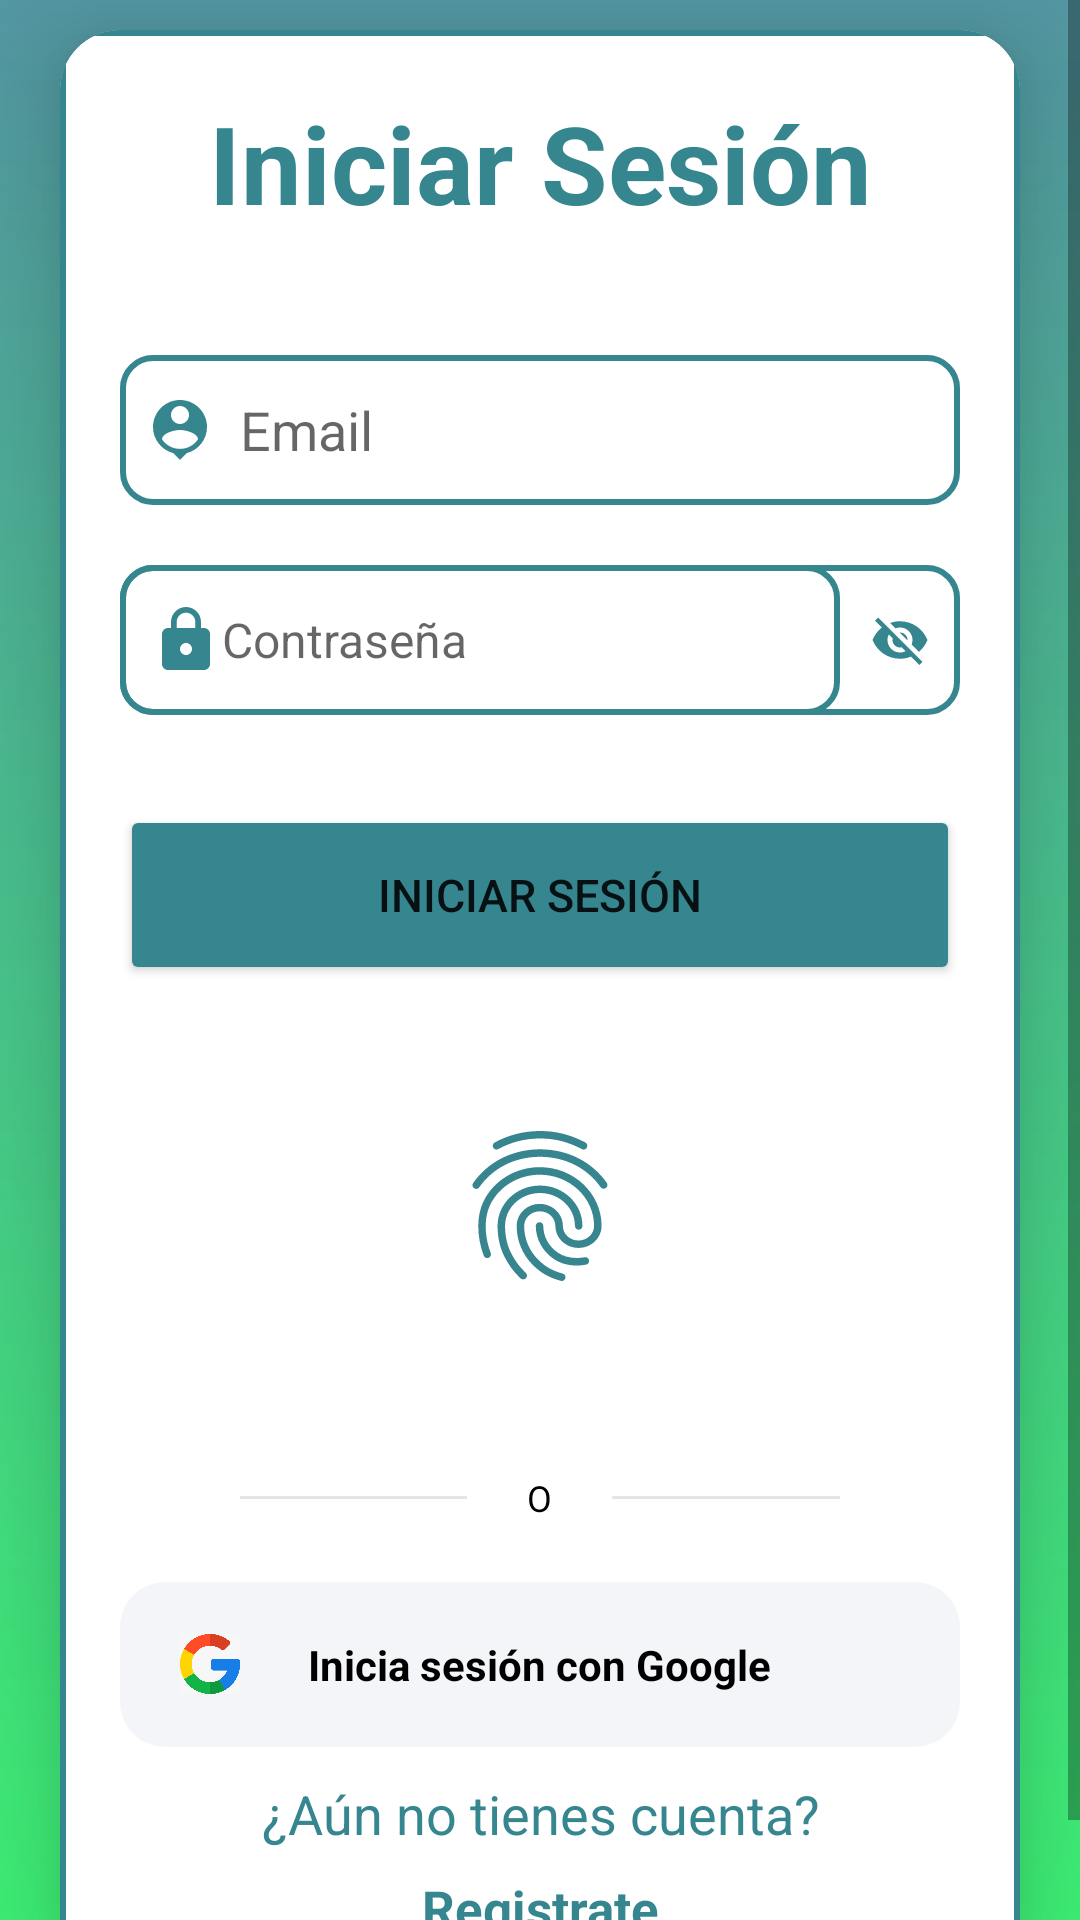

Icon bounding boxes for this 1080px×1920px phone screenshot, format (x1, y1, x2, y2):
fingerprint: (472, 1131, 608, 1281)
visibility off: (872, 617, 928, 665)
